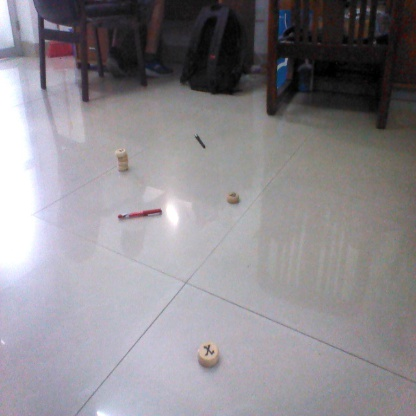chess: (198, 341, 222, 367), (114, 143, 130, 172), (224, 191, 244, 201)
pen: (114, 206, 166, 222), (193, 134, 210, 150)
